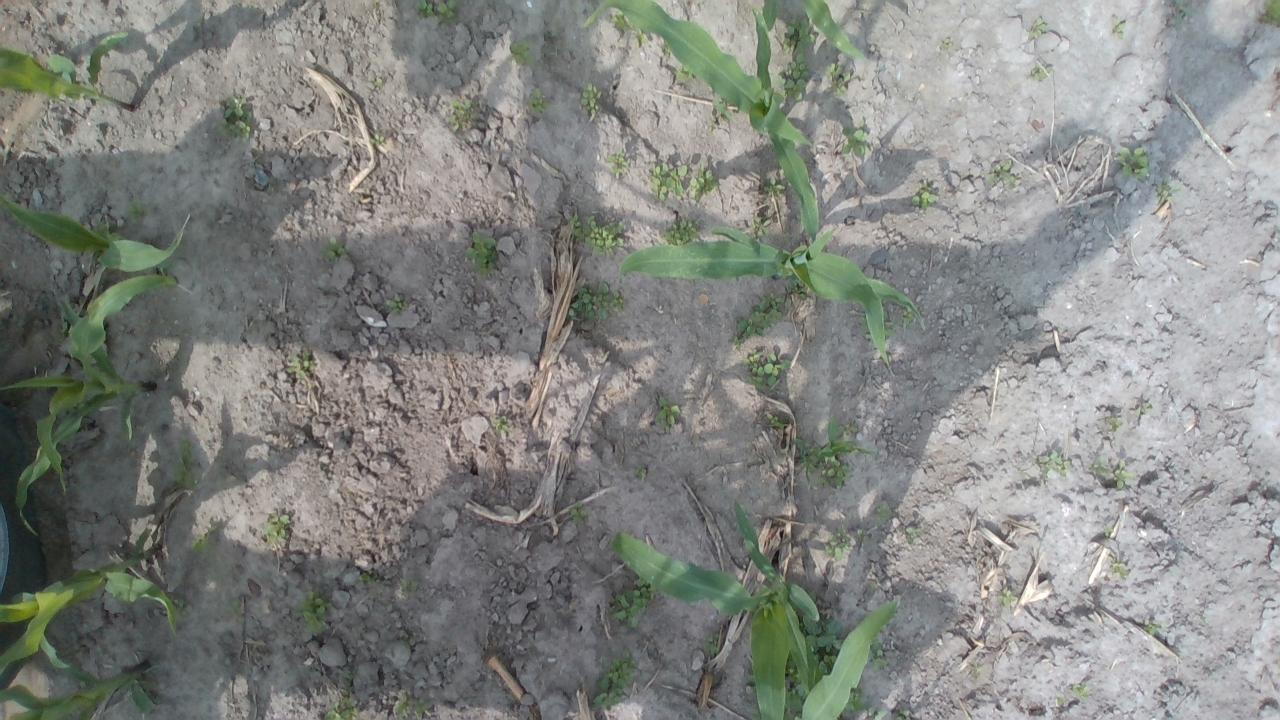Maize: (580, 0, 820, 245), (618, 227, 928, 376), (0, 275, 178, 534), (614, 499, 820, 720), (0, 554, 180, 672), (0, 189, 183, 273), (801, 595, 898, 720), (0, 31, 138, 112), (0, 651, 156, 720), (762, 0, 868, 61)
Weeds: (793, 417, 874, 492), (773, 16, 817, 102), (649, 159, 720, 210), (566, 210, 627, 257), (592, 648, 638, 710), (734, 292, 792, 338), (802, 616, 846, 676), (608, 576, 656, 630), (566, 280, 624, 320), (743, 347, 791, 393), (293, 590, 337, 640), (214, 93, 256, 140), (782, 655, 806, 720), (174, 432, 201, 489), (844, 686, 888, 720), (446, 92, 484, 131), (466, 231, 496, 278), (414, 0, 465, 26), (392, 689, 432, 720), (1117, 146, 1151, 182), (323, 687, 359, 720), (823, 58, 852, 98), (662, 219, 702, 248), (822, 525, 853, 561), (192, 523, 218, 563), (840, 125, 871, 158), (986, 158, 1019, 188), (1038, 450, 1072, 479), (655, 398, 681, 435), (578, 79, 606, 113), (286, 350, 317, 380), (708, 97, 732, 133), (604, 146, 631, 178), (264, 510, 290, 541), (320, 238, 352, 263), (864, 638, 887, 672), (510, 38, 538, 65), (170, 592, 193, 624), (912, 182, 938, 209), (1113, 458, 1135, 488), (526, 87, 551, 113), (126, 198, 153, 222), (763, 176, 792, 197), (606, 9, 632, 32), (786, 274, 808, 300), (1087, 454, 1108, 481), (748, 216, 772, 239), (383, 292, 410, 312), (50, 318, 69, 346), (874, 500, 893, 528), (225, 598, 245, 624), (701, 630, 721, 656), (1154, 182, 1176, 204), (1029, 15, 1049, 39), (1029, 62, 1053, 82), (400, 575, 426, 593), (1263, 0, 1280, 26), (674, 63, 697, 81), (766, 413, 790, 430), (1103, 416, 1125, 434), (493, 414, 511, 434), (1109, 560, 1129, 578), (884, 308, 896, 338), (634, 26, 650, 48), (901, 306, 916, 328), (998, 590, 1016, 608), (904, 526, 922, 544), (1174, 0, 1193, 17), (1142, 621, 1162, 637), (1112, 16, 1126, 38), (358, 568, 376, 585), (632, 462, 648, 481), (570, 505, 587, 522), (1136, 400, 1152, 418), (726, 334, 744, 350), (894, 704, 912, 720), (368, 130, 386, 146), (156, 259, 176, 272), (1072, 684, 1088, 700), (936, 38, 954, 49), (660, 44, 673, 58), (372, 76, 384, 90), (1104, 525, 1114, 538), (342, 670, 353, 680), (974, 662, 984, 672), (856, 526, 866, 536), (1056, 696, 1065, 706)
